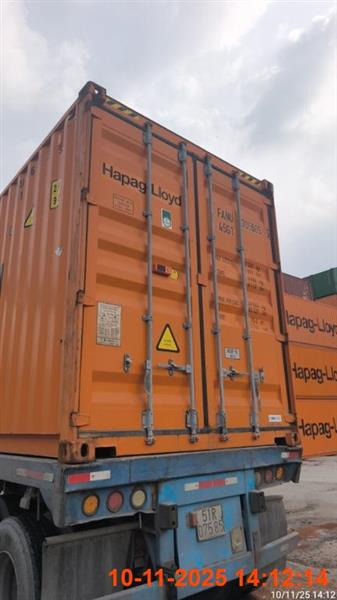bent: (0, 80, 305, 599)
